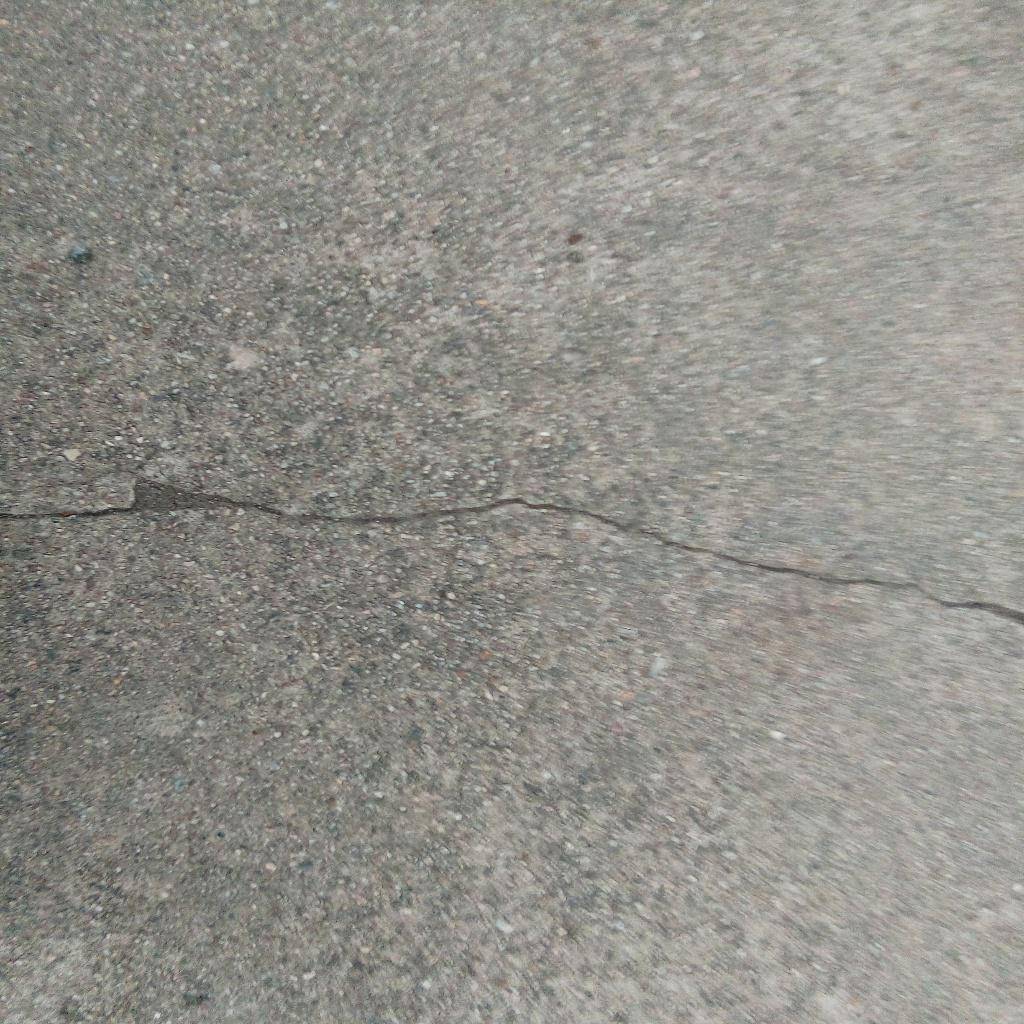Crack: (1, 481, 1024, 628)
